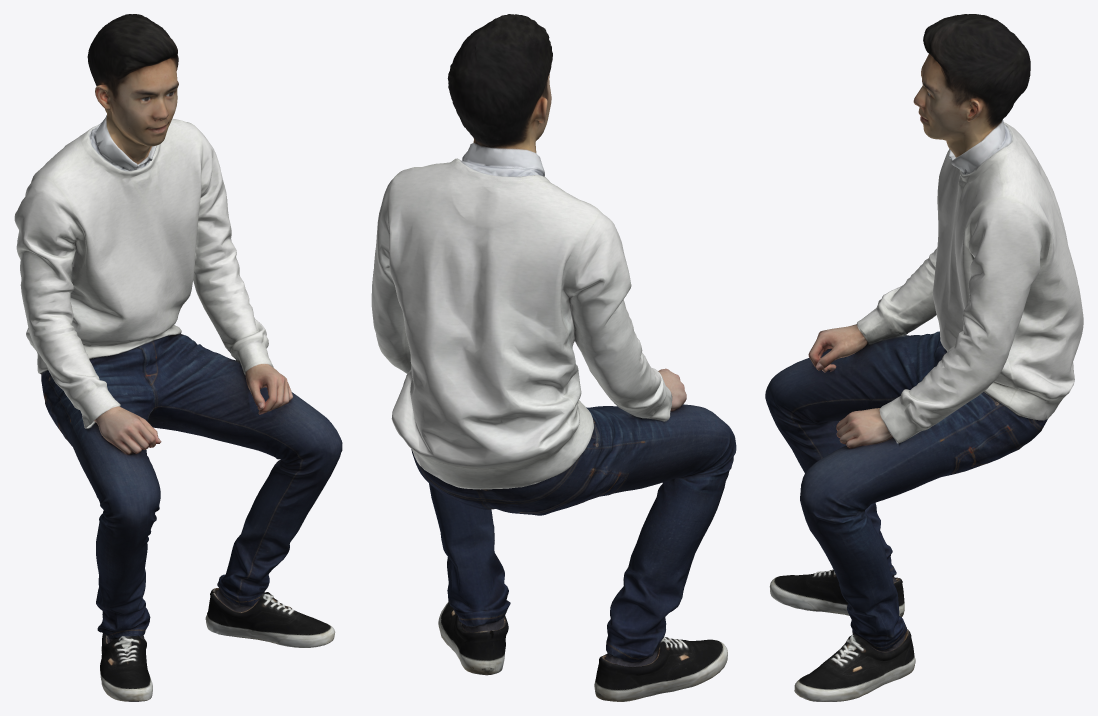
Rendered from man_fbx.fbx.
The picture shows the model from 3 angles, left to right: view 1: azimuth 30°, elevation 25°; view 2: azimuth 150°, elevation 25°; view 3: azimuth 270°, elevation 25°; orthographic projection. The views are drawn at different scales.
Visible parts, largest first — view 1: 123; view 2: 123; view 3: 123.
Part boxes in pixels (left/top/right/bottom): 123: left=14, top=14, right=342, bottom=701; 123: left=371, top=14, right=736, bottom=701; 123: left=765, top=14, right=1083, bottom=701.
Size of what is drawn, in the model's own units: 0.6032 by 1.4 by 0.6425.
Materials: 1 (1 with a texture image).
